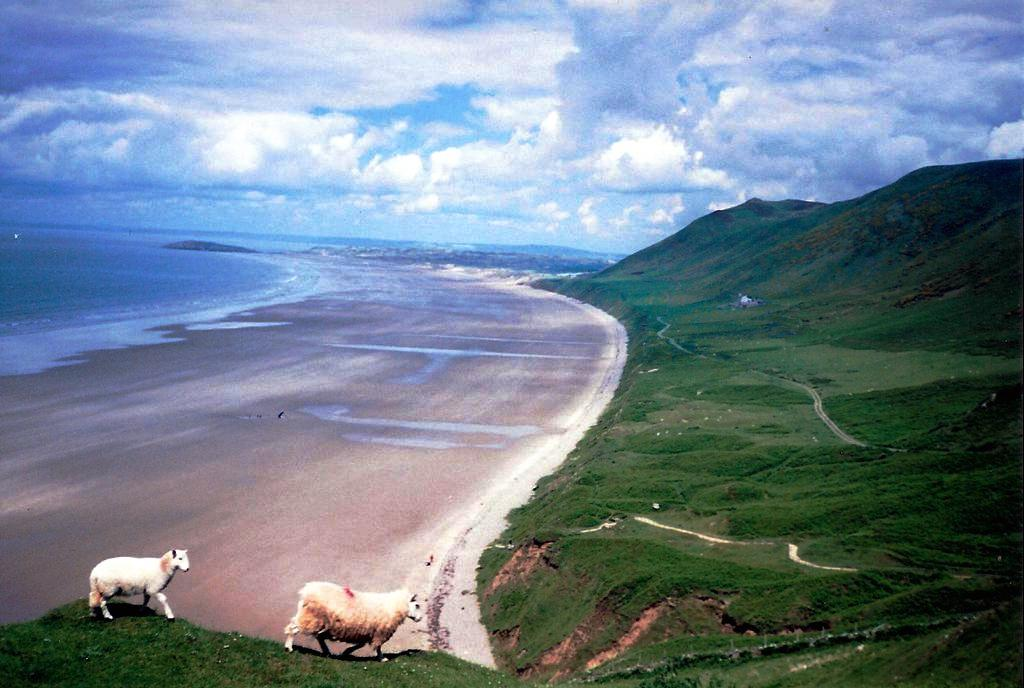Sheep: (281, 580, 418, 652), (87, 548, 192, 624)
